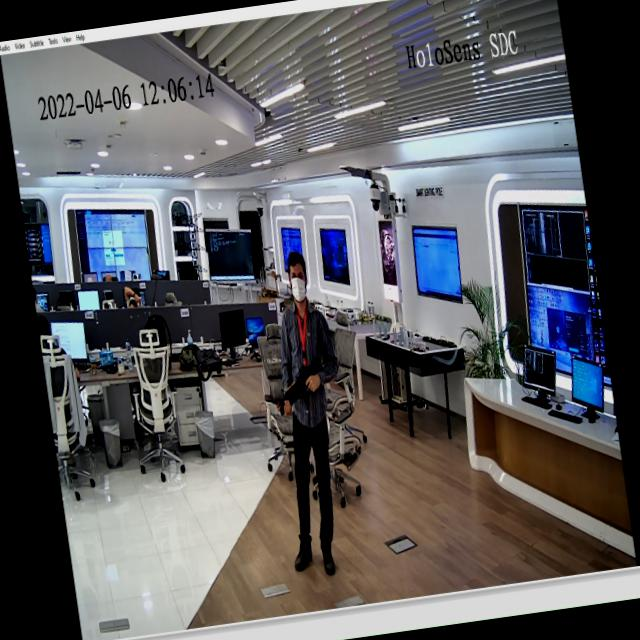long weapon: (268, 352, 334, 423)
